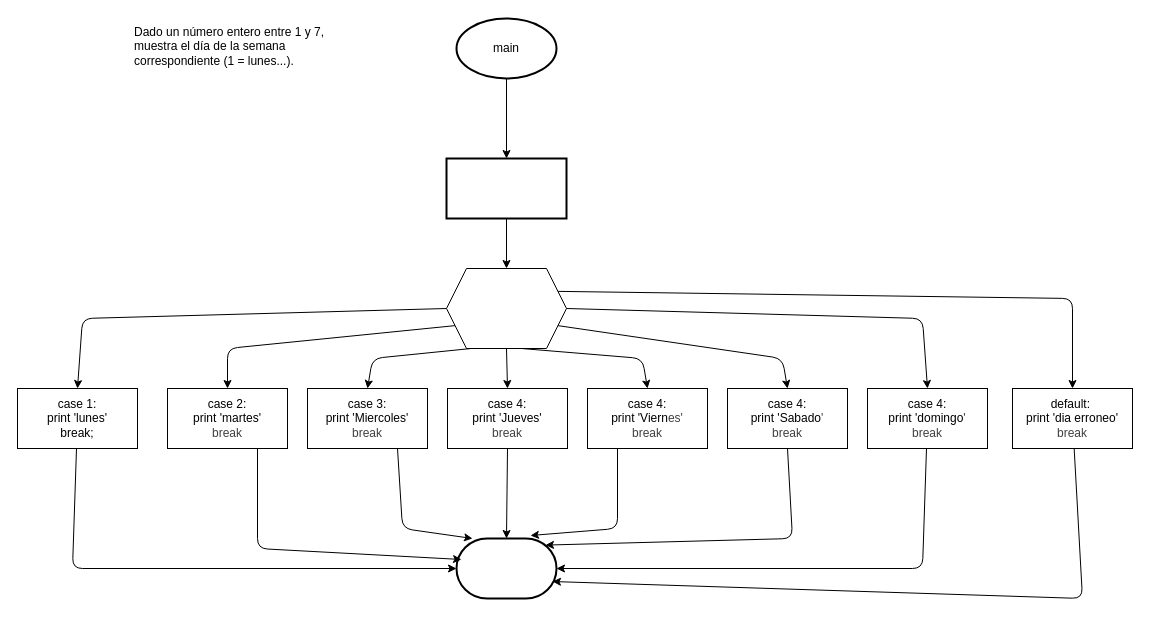
The diagram is 1150 pixels wide and 624 high, and some of its shapes have lost their labels. Here are the shapes that lost their labels. From the top down, the centre of each, then its label:
(x=506, y=188): int diaSemana = numero
(x=506, y=308): condicional switch(diaSemana)
(x=506, y=568): fin
